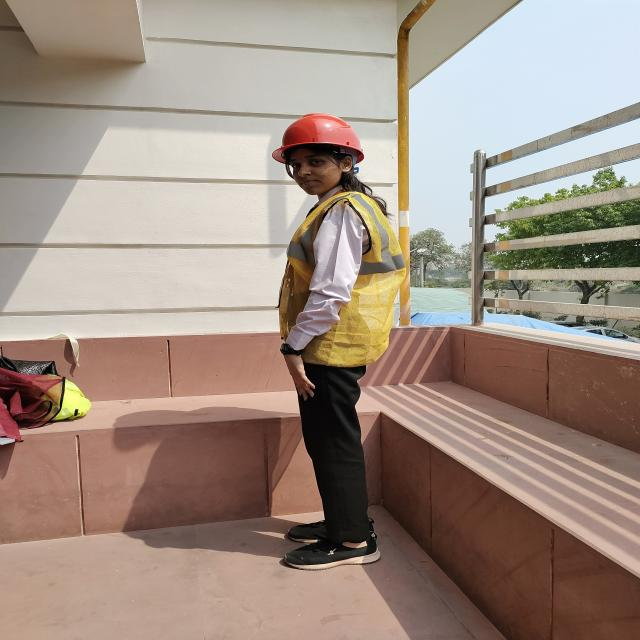safe: (272, 113, 406, 569)
